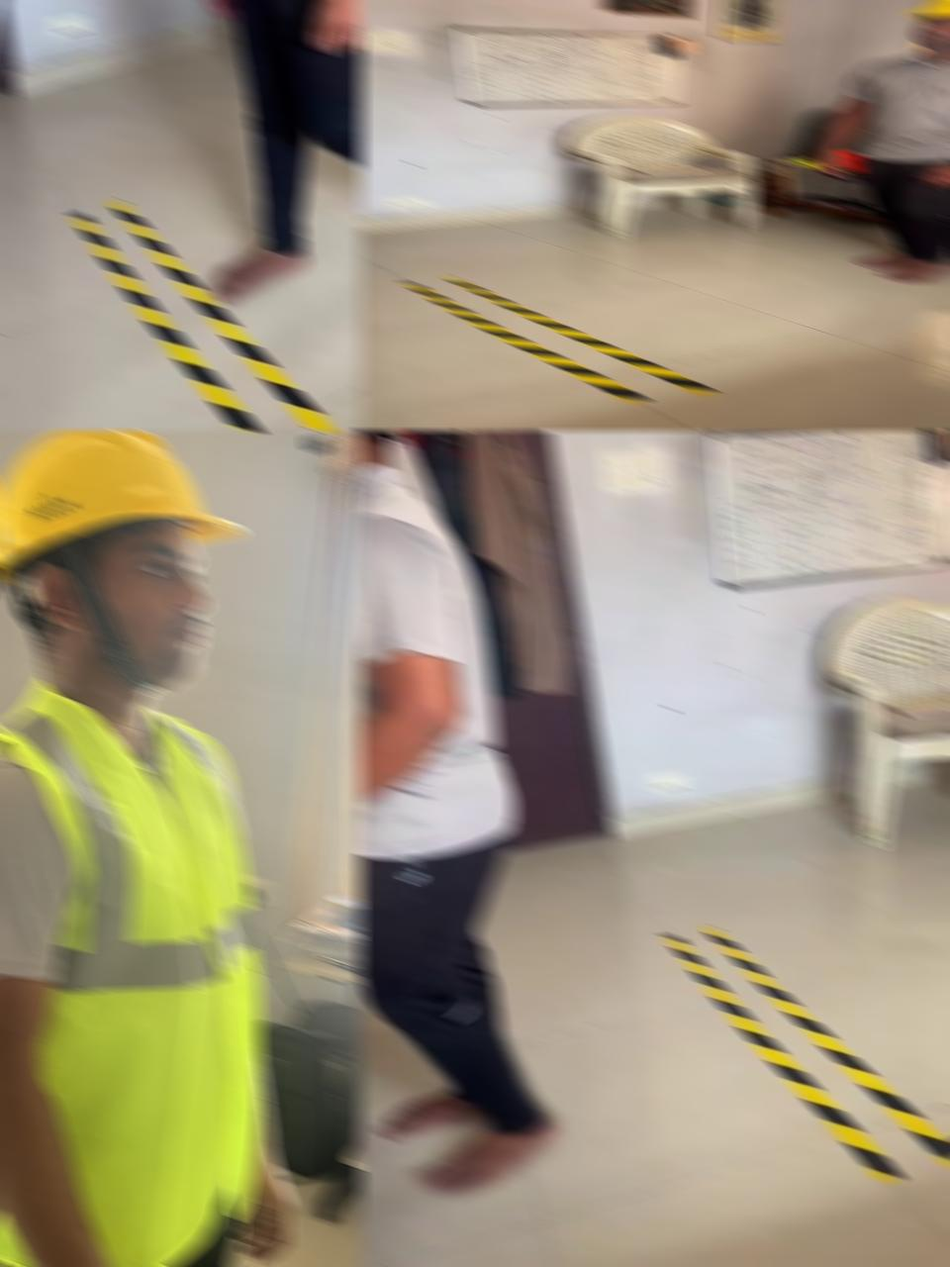BorderLine: (659, 925, 950, 1186), (65, 203, 363, 432), (446, 276, 718, 395), (399, 282, 648, 402)
Helmet: (0, 430, 245, 694), (904, 0, 950, 19)
No_Vest: (357, 462, 517, 860), (835, 49, 950, 161)
Person: (0, 430, 293, 1267), (357, 430, 563, 1198), (191, 0, 363, 300), (811, 0, 950, 281)
Vest: (0, 678, 263, 1267)
